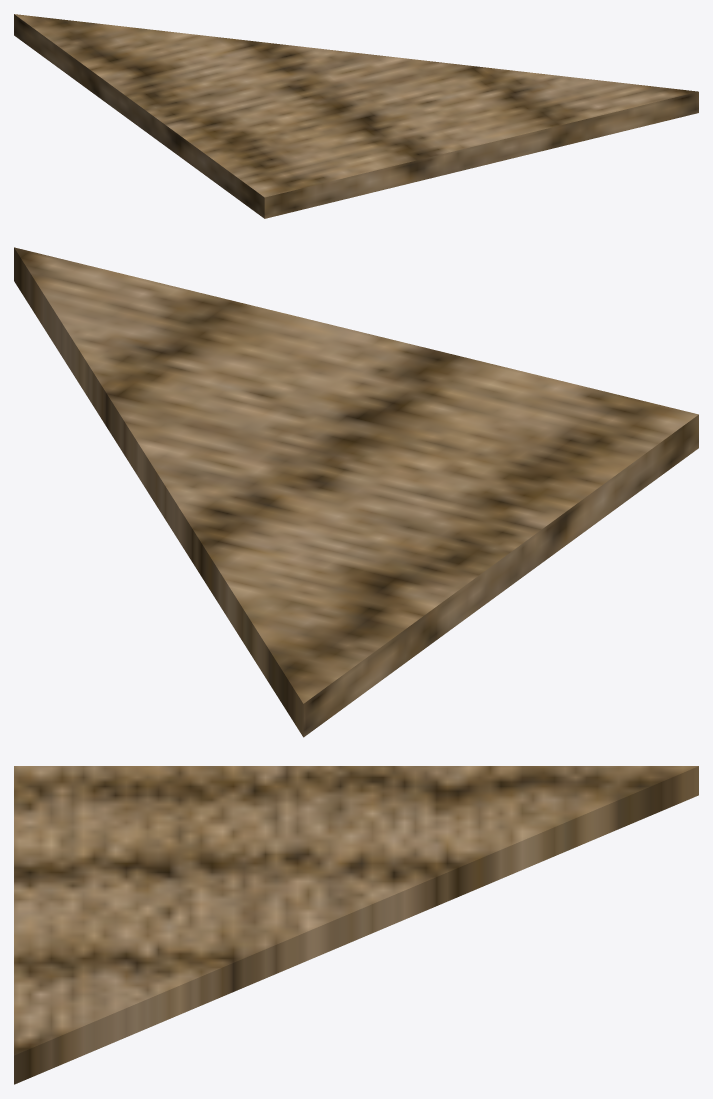
Rendered from roof triangle 3.glb.
3 renders of one model, top to bottom at view 1: azimuth 30°, elevation 25°; view 2: azimuth 150°, elevation 25°; view 3: azimuth 270°, elevation 25°, orthographic. The views are drawn at different scales.
Visible parts, largest first — view 1: Plane.001; view 2: Plane.001; view 3: Plane.001.
Boxes of the visible parts, left/top/right/bottom form: Plane.001: left=14, top=14, right=698, bottom=218; Plane.001: left=14, top=247, right=698, bottom=737; Plane.001: left=14, top=766, right=698, bottom=1084.
Size of the model in its own units: 1 by 0.047 by 1.
Materials: 1 (1 with a texture image).
